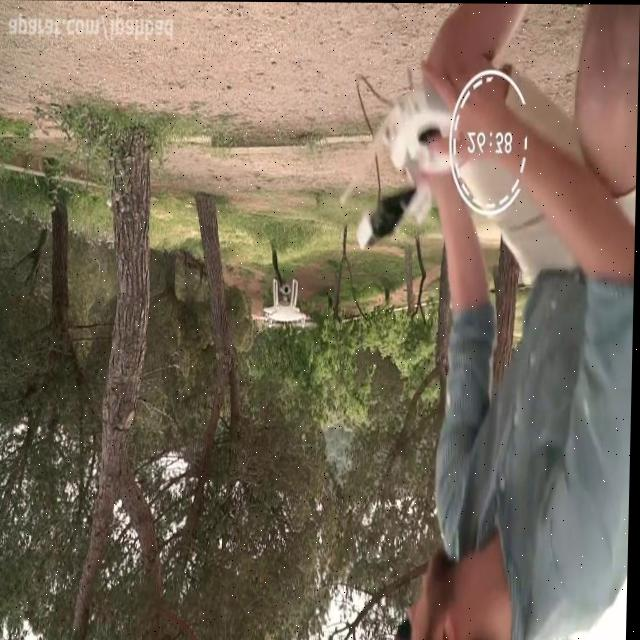drone: (257, 276, 321, 331)
